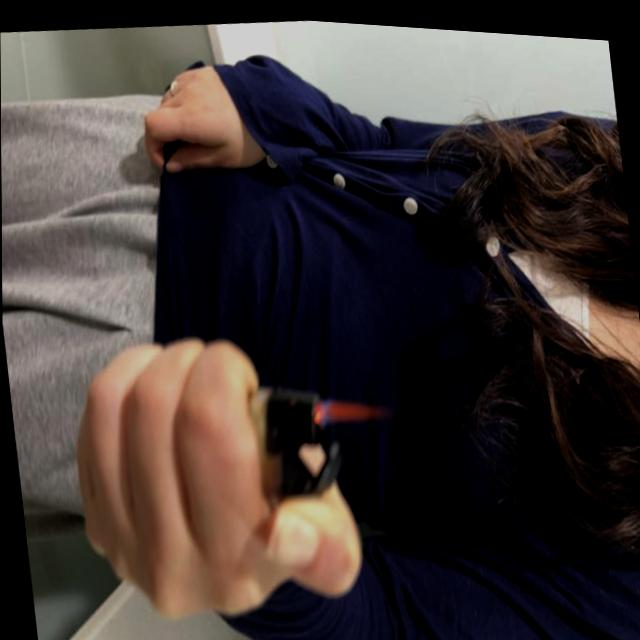Fire: (308, 383, 392, 426)
